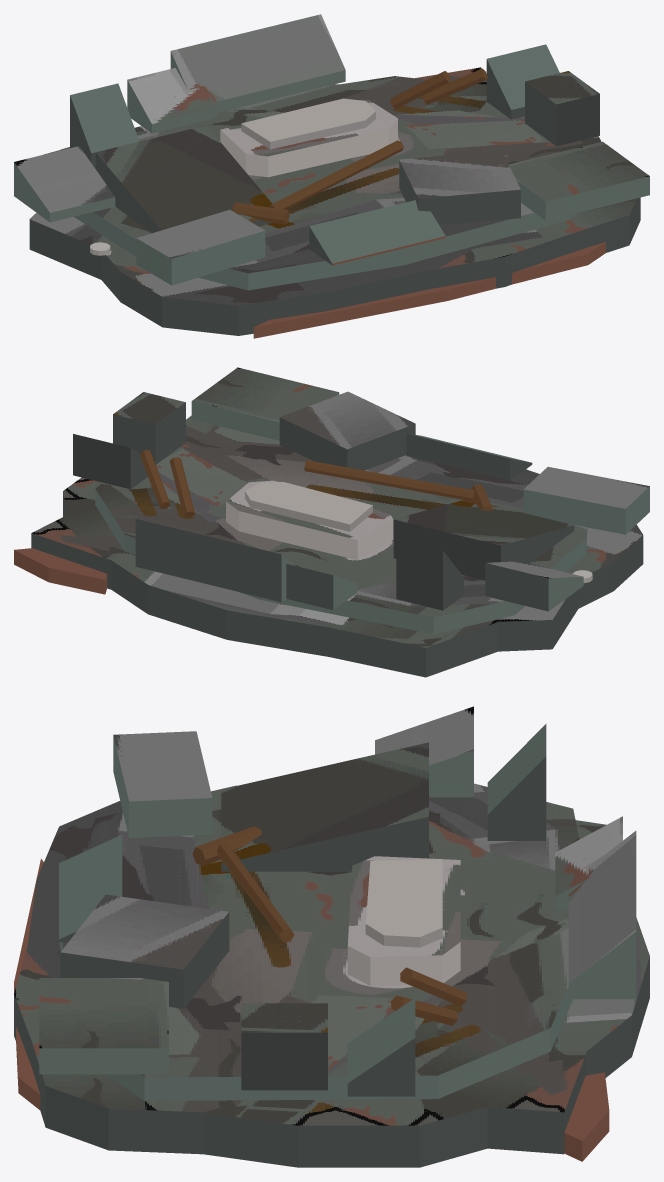
The model's file is Building_AncientRustedDropship.glb.
3 renders of one model, top to bottom at view 1: azimuth 30°, elevation 25°; view 2: azimuth 150°, elevation 25°; view 3: azimuth 270°, elevation 25°, orthographic. The views are drawn at different scales.
Parts seen in each view (by area): view 1: AncientRustedDropship; view 2: AncientRustedDropship; view 3: AncientRustedDropship.
Boxes of the visible parts, x1=… form: AncientRustedDropship: x1=14, y1=14, x2=649, y2=338; AncientRustedDropship: x1=14, y1=367, x2=649, y2=677; AncientRustedDropship: x1=14, y1=706, x2=649, y2=1167.
Size of the model in its own units: 5.72 by 1.15 by 4.41.
1 material, 1 textured.
